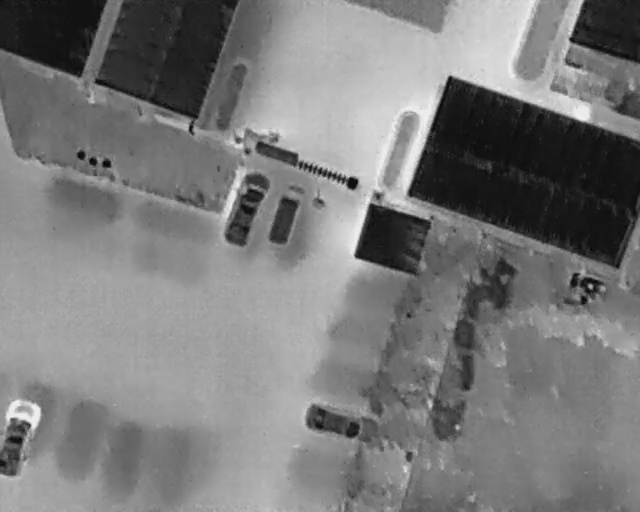Car: (217, 164, 276, 250), (302, 400, 383, 450), (0, 400, 42, 479)
